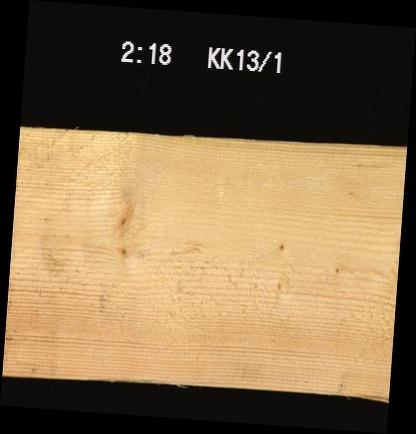small_knot: (109, 205, 136, 232), (111, 241, 137, 264), (325, 259, 348, 280), (268, 271, 288, 292), (271, 237, 292, 253)
